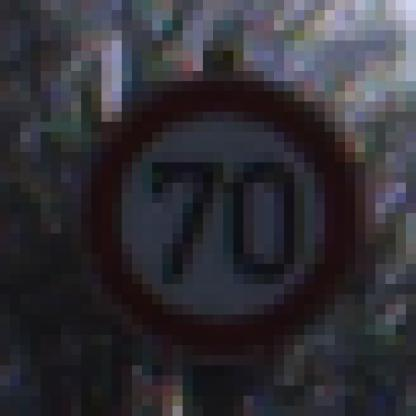Speed Limit 70: (102, 82, 350, 350)
